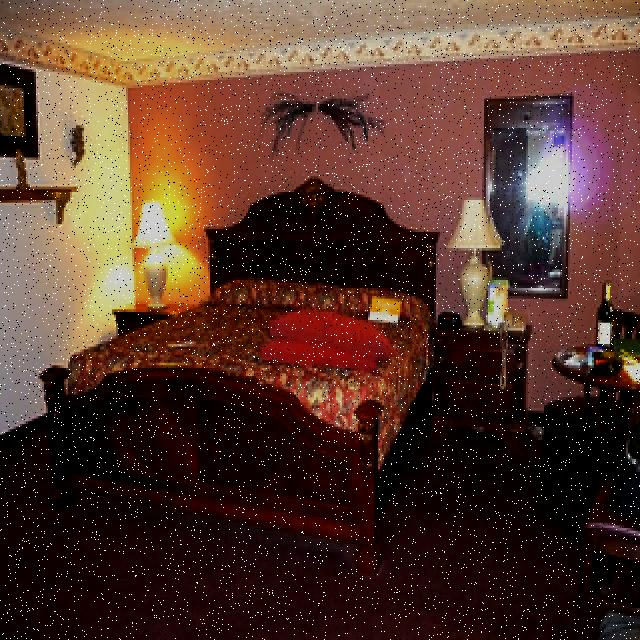bed: (57, 268, 436, 418)
